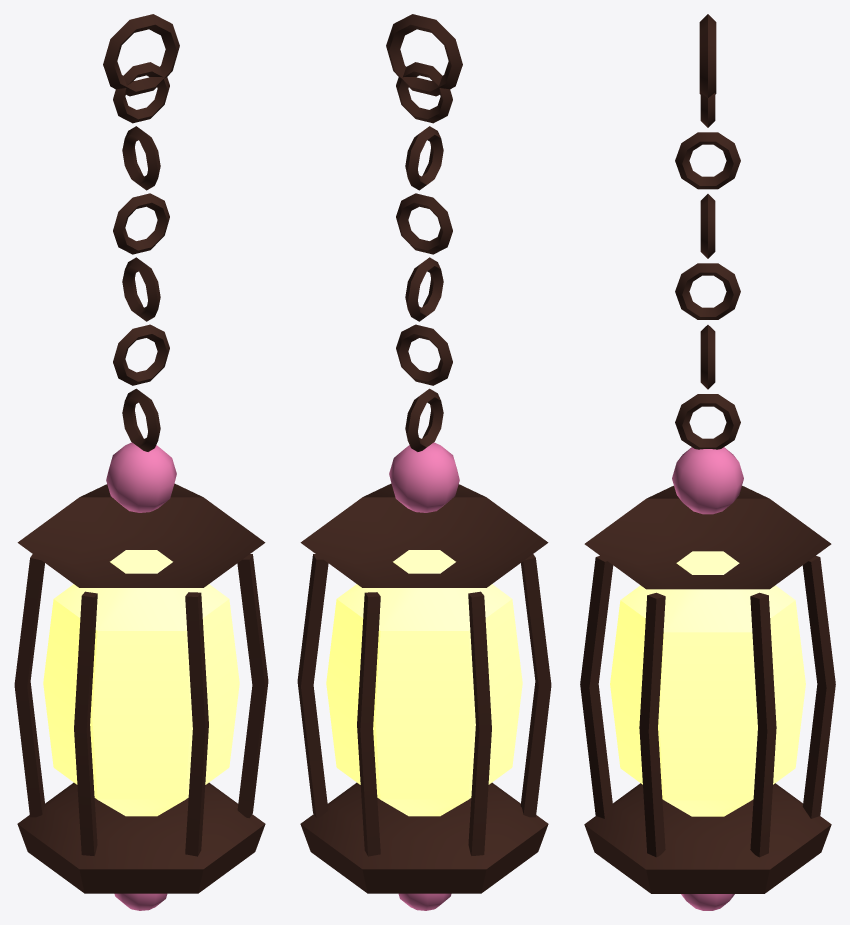
File: Hanging_Lantern.fbx
3 views of the same model, side by side, from view 1: azimuth 30°, elevation 25°; view 2: azimuth 150°, elevation 25°; view 3: azimuth 270°, elevation 25° (orthographic).
Parts seen in each view (by area): view 1: Hanging_Lantern_Frame, Hanging_Lantern_Glow; view 2: Hanging_Lantern_Frame, Hanging_Lantern_Glow; view 3: Hanging_Lantern_Frame, Hanging_Lantern_Glow.
Boxes of the visible parts, x1=… form: Hanging_Lantern_Frame: x1=14, y1=14, x2=268, y2=910; Hanging_Lantern_Glow: x1=43, y1=550, x2=239, y2=816; Hanging_Lantern_Frame: x1=297, y1=14, x2=551, y2=910; Hanging_Lantern_Glow: x1=326, y1=550, x2=522, y2=816; Hanging_Lantern_Frame: x1=580, y1=14, x2=835, y2=910; Hanging_Lantern_Glow: x1=610, y1=551, x2=805, y2=816.
Size of the model in its own units: 0.2172 by 0.9509 by 0.248.
